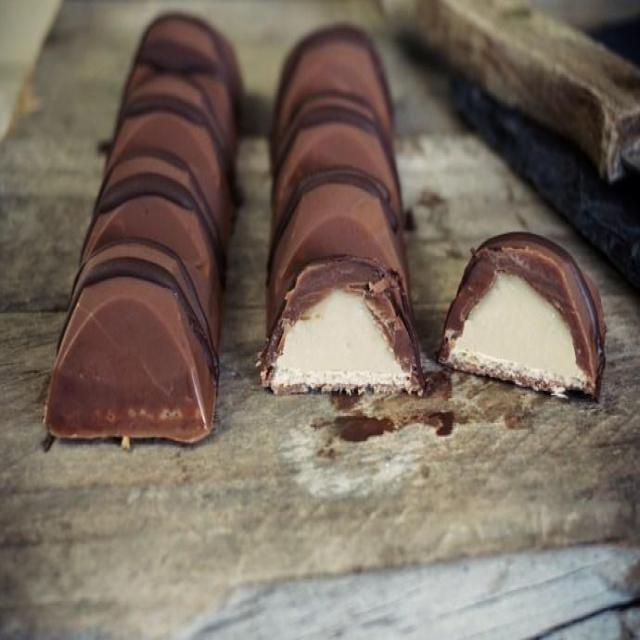Chocolate bar packaged: (41, 10, 249, 448), (265, 24, 429, 401), (436, 233, 610, 404)
